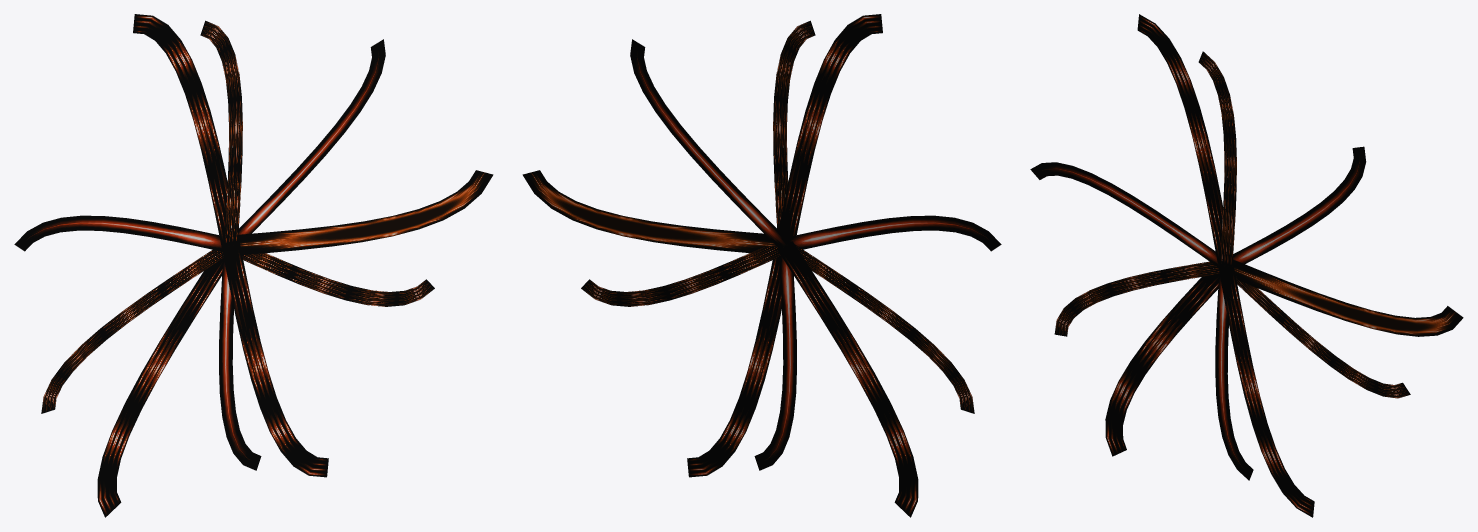
Rendered from tx_warrior_tuci_fire_01.obj.
3 renders of one model, left to right at view 1: azimuth 30°, elevation 25°; view 2: azimuth 150°, elevation 25°; view 3: azimuth 330°, elevation 25°, orthographic. The views are drawn at different scales.
Parts seen in each view (by area): view 1: Plane10, Plane12, Plane11, Plane08, Plane05, Plane06, Plane07, Plane04, Plane03, Plane02; view 2: Plane12, Plane10, Plane08, Plane11, Plane04, Plane06, Plane03, Plane02, Plane07, Plane05; view 3: Plane10, Plane11, Plane12, Plane08, Plane05, Plane06, Plane07, Plane04, Plane03, Plane02.
Boxes of the visible parts, bbox=[...] form: Plane10: bbox=[238, 170, 493, 254]; Plane12: bbox=[97, 259, 223, 517]; Plane11: bbox=[222, 242, 328, 477]; Plane08: bbox=[133, 14, 239, 249]; Plane05: bbox=[200, 20, 242, 246]; Plane06: bbox=[14, 215, 223, 251]; Plane07: bbox=[41, 250, 223, 413]; Plane04: bbox=[238, 39, 385, 234]; Plane03: bbox=[242, 253, 434, 306]; Plane02: bbox=[219, 246, 261, 470]; Plane12: bbox=[777, 241, 918, 517]; Plane10: bbox=[522, 170, 775, 252]; Plane08: bbox=[778, 14, 882, 237]; Plane11: bbox=[687, 257, 781, 477]; Plane04: bbox=[630, 39, 788, 248]; Plane06: bbox=[786, 215, 1001, 251]; Plane03: bbox=[581, 245, 780, 306]; Plane02: bbox=[754, 256, 796, 470]; Plane07: bbox=[785, 240, 974, 413]; Plane05: bbox=[773, 20, 815, 229]; Plane10: bbox=[1232, 259, 1463, 336]; Plane11: bbox=[1218, 265, 1314, 517]; Plane12: bbox=[1105, 274, 1218, 456]; Plane08: bbox=[1137, 14, 1233, 266]; Plane05: bbox=[1198, 51, 1236, 266]; Plane06: bbox=[1030, 162, 1219, 267]; Plane07: bbox=[1054, 261, 1219, 336]; Plane04: bbox=[1233, 146, 1366, 263]; Plane03: bbox=[1235, 274, 1410, 398]; Plane02: bbox=[1215, 264, 1253, 480].
Size of the model in its own units: 345 by 351 by 0.00016.
Materials: 4 (4 with a texture image).
